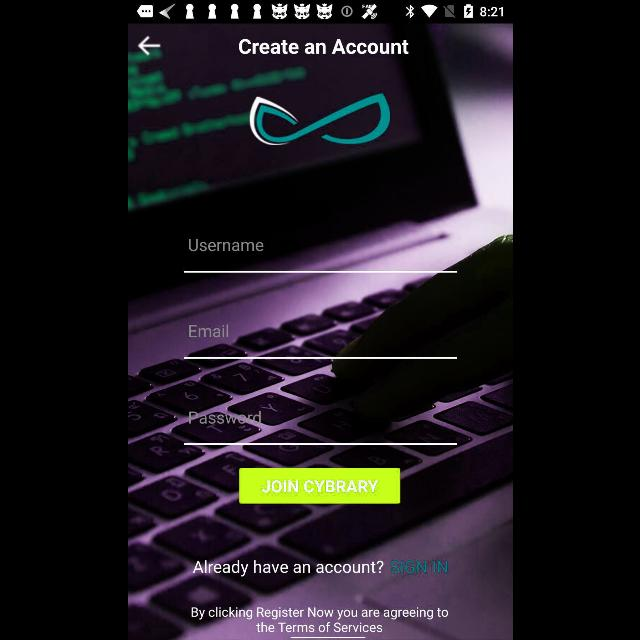backgroundimage: (128, 24, 512, 640)
icon: (138, 36, 160, 56)
image: (248, 94, 389, 146)
input: (184, 324, 456, 360), (184, 410, 456, 446), (184, 239, 456, 273)
text: (190, 607, 448, 633), (192, 560, 448, 576), (238, 39, 408, 55), (188, 239, 262, 251)
textbutton: (238, 468, 400, 504)
uppertaskbar: (128, 1, 512, 23)
